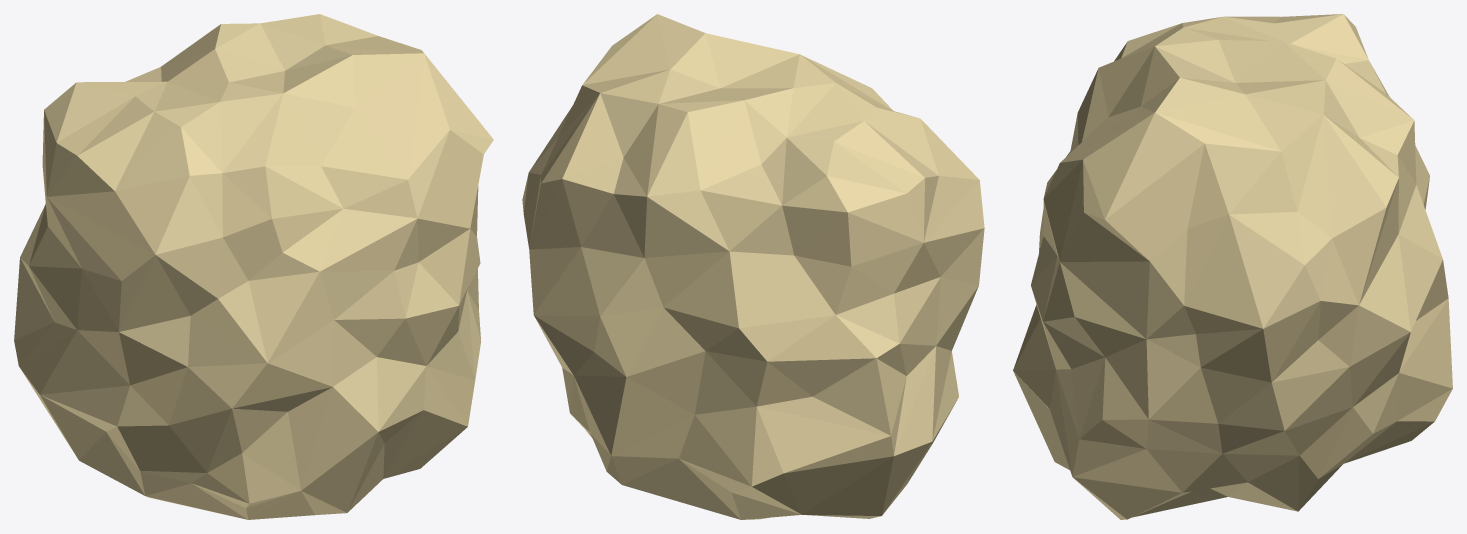
Rendered from Asteroid (91).fbx.
The picture shows the model from 3 angles, left to right: view 1: azimuth 30°, elevation 25°; view 2: azimuth 150°, elevation 25°; view 3: azimuth 270°, elevation 25°; orthographic projection. The views are drawn at different scales.
Parts seen in each view (by area): view 1: Asteroid165; view 2: Asteroid165; view 3: Asteroid165.
Boxes of the visible parts, x1,y1,x2,y2 form: Asteroid165: (14, 14, 493, 519); Asteroid165: (522, 14, 984, 519); Asteroid165: (1013, 14, 1452, 519).
Bounding box in the file's own units: 387 × 388 × 343.
